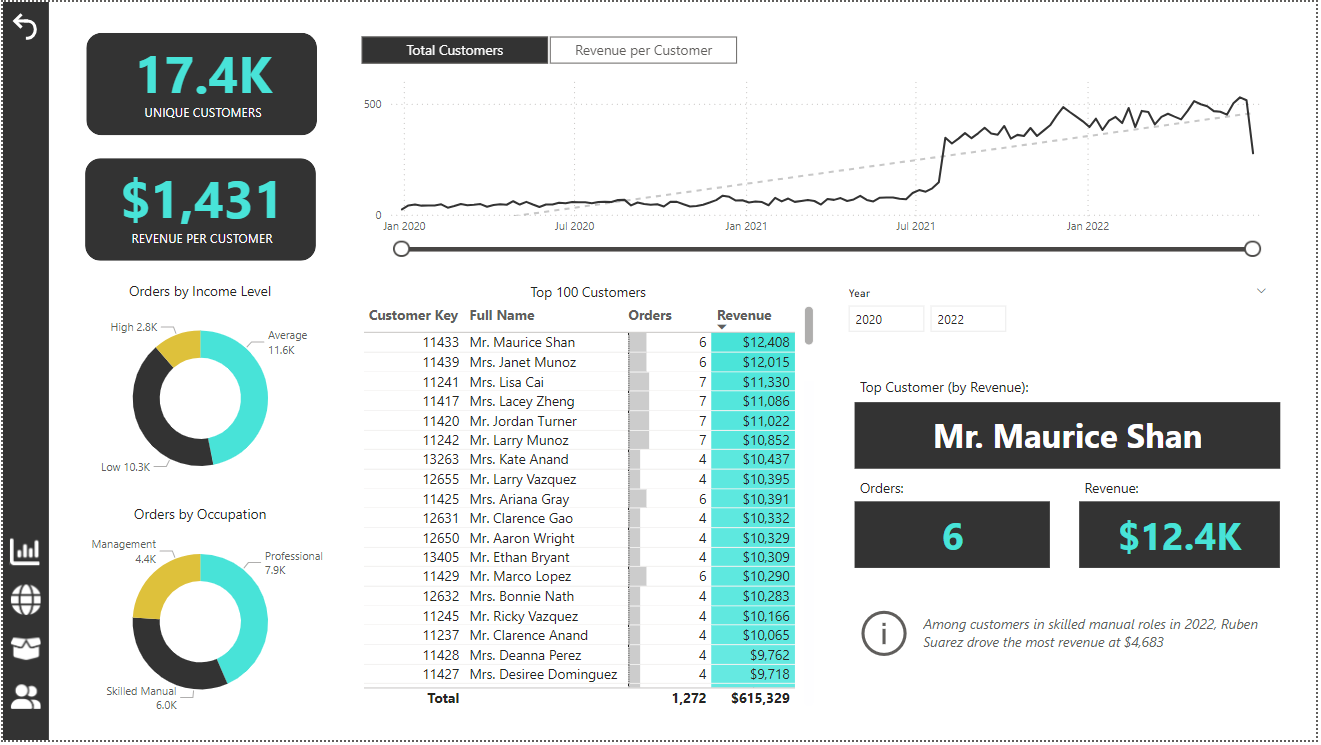

The page's visual inventory and layout, read from the dashboard file:
{"tool":"powerbi","page":{"name":"Customer Detail","canvas":[1280,720],"ordinal":3},"visuals":[{"type":"shape","box":[0,0,45,720],"z":0},{"type":"actionButton","box":[2.5,516.7,45.6,37.8],"z":0,"group":"g1"},{"type":"shape","box":[81.7,30,225,100],"z":1000},{"type":"actionButton","box":[3.3,563.4,45.6,37.8],"z":1000,"group":"g1"},{"type":"actionButton","box":[3.3,611.1,45.6,37.8],"z":2000,"group":"g1"},{"type":"shape","box":[80,152.7,225,100],"z":2000},{"type":"card","fields":{"Values":["Measure Table.Total Customers"]},"box":[66.7,0,256.2,150],"z":3000},{"type":"actionButton","box":[3.3,657.8,45.6,37.8],"z":3000,"group":"g1"},{"type":"card","fields":{"Values":["Measure Table.Average Revenue per Customer"]},"box":[65,122.7,256.2,150],"z":4000},{"type":"lineChart","fields":{"Y":["Measure Table.Total Customers"],"Category":["Calendar Lookup.Date Hierarchy.Year","Calendar Lookup.Date Hierarchy.Start of Month","Calendar Lookup.Date Hierarchy.Start of Week","Calendar Lookup.Date Hierarchy.Date"]},"box":[345.9,63.3,898.6,188.8],"z":5000},{"type":"donutChart","title":"Orders by Income Level","fields":{"Category":["Customer Lookup.Income Level"],"Y":["Measure Table.Total Orders"]},"box":[63.8,272.5,257.5,210],"z":6000},{"type":"donutChart","title":"Orders by Occupation","fields":{"Y":["Measure Table.Total Orders"],"Category":["Customer Lookup.Occupation"]},"box":[63.8,490,257.5,210],"z":7000},{"type":"tableEx","title":"Top 100 Customers","fields":{"Values":["Customer Lookup.CustomerKey","Customer Lookup.Full Name","Measure Table.Total Orders","Measure Table.Total Revenue"]},"box":[346,273.6,449.4,418.4],"z":8000},{"type":"card","fields":{"Values":["Customer Lookup.Full Name"]},"box":[829.6,390.1,414.5,65.1],"z":9000},{"type":"card","fields":{"Values":["Measure Table.Total Orders"]},"box":[829.6,487,190.7,65.1],"z":10000},{"type":"card","fields":{"Values":["Measure Table.Total Revenue"]},"box":[1048.7,487,195.4,65.1],"z":11000},{"type":"textbox","box":[829.6,361.7,190.7,37.9],"z":12000},{"type":"textbox","box":[829.6,458.4,190.7,37.9],"z":13000},{"type":"textbox","box":[1048.7,458.4,190.7,37.9],"z":14000},{"type":"slicer","fields":{"Values":["Calendar Lookup.Year"]},"box":[811.6,272.4,432.9,80.3],"z":15000},{"type":"actionButton","box":[830,586.7,410,56.7],"z":16000},{"type":"actionButton","box":[3.3,5.6,35.6,35.6],"z":17000},{"type":"group","id":"g1","title":"Navigation Buttons","box":[2.5,516.7,46.4,178.9],"z":18000},{"type":"slicer","fields":{"Values":["Customer Metric Selection.Customer Metric Selection"]},"box":[323.3,27.1,415.9,36.2],"z":19000}]}

Visuals, with their boxes on the page's 1280x720 design canvas (x1, y1, x2, y2). These are canvas units, not pixel positions in the 1321x745 screenshot, which may show the page scaled, cropped or inside an application window:
shape: 0:0:45:720
actionButton: 2:517:48:554
shape: 82:30:307:130
actionButton: 3:563:49:601
actionButton: 3:611:49:649
shape: 80:153:305:253
card - Measure Table.Total Customers: 67:0:323:150
actionButton: 3:658:49:696
card - Measure Table.Average Revenue per Customer: 65:123:321:273
lineChart - Measure Table.Total Customers x Calendar Lookup.Date Hierarchy.Year: 346:63:1244:252
"Orders by Income Level" donutChart: 64:272:321:482
"Orders by Occupation" donutChart: 64:490:321:700
"Top 100 Customers" tableEx: 346:274:795:692
card - Customer Lookup.Full Name: 830:390:1244:455
card - Measure Table.Total Orders: 830:487:1020:552
card - Measure Table.Total Revenue: 1049:487:1244:552
textbox: 830:362:1020:400
textbox: 830:458:1020:496
textbox: 1049:458:1239:496
slicer - Calendar Lookup.Year: 812:272:1244:353
actionButton: 830:587:1240:643
actionButton: 3:6:39:41
"Navigation Buttons" group: 2:517:49:696
slicer - Customer Metric Selection.Customer Metric Selection: 323:27:739:63
